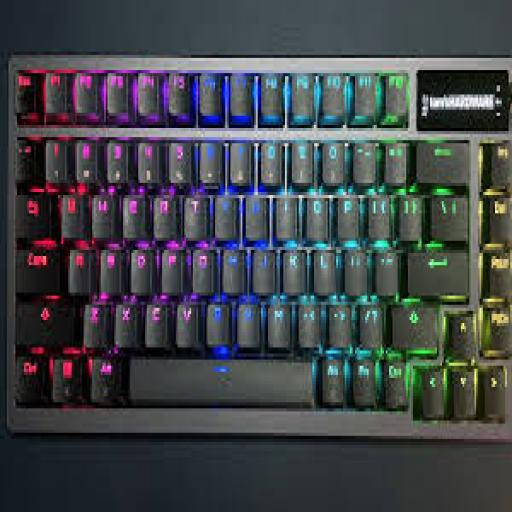KEYBOARD-2: (0, 55, 510, 439)
